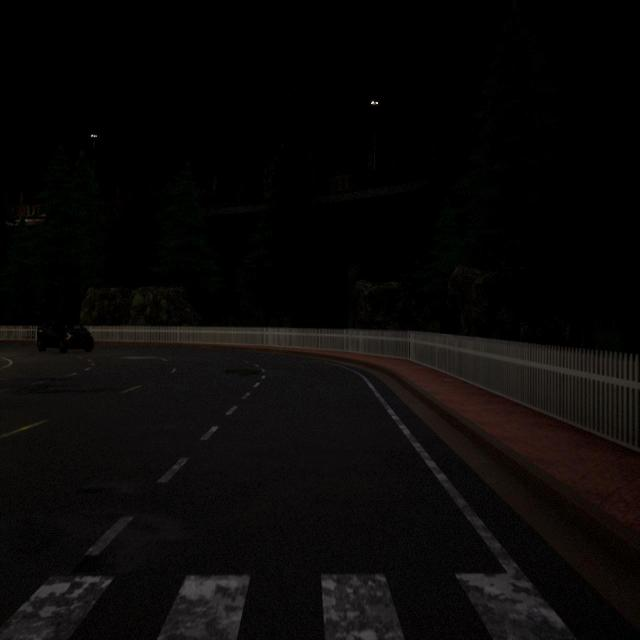Vehicle: (36, 319, 95, 356)
